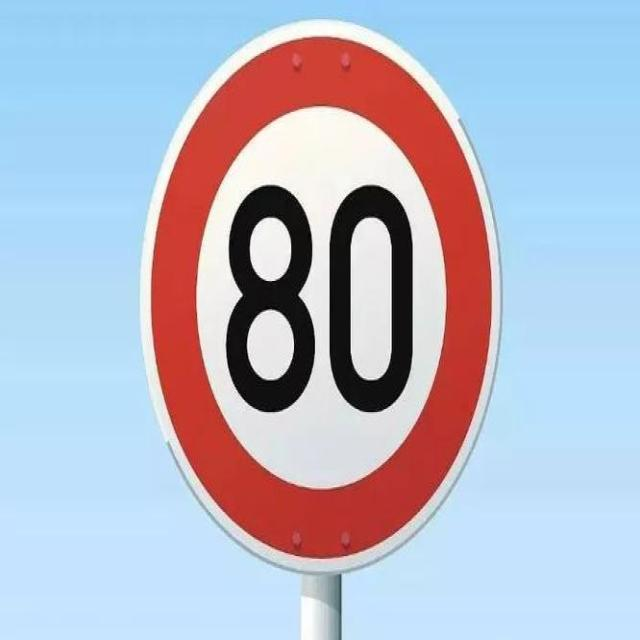speed limit 80: (141, 19, 503, 575)
